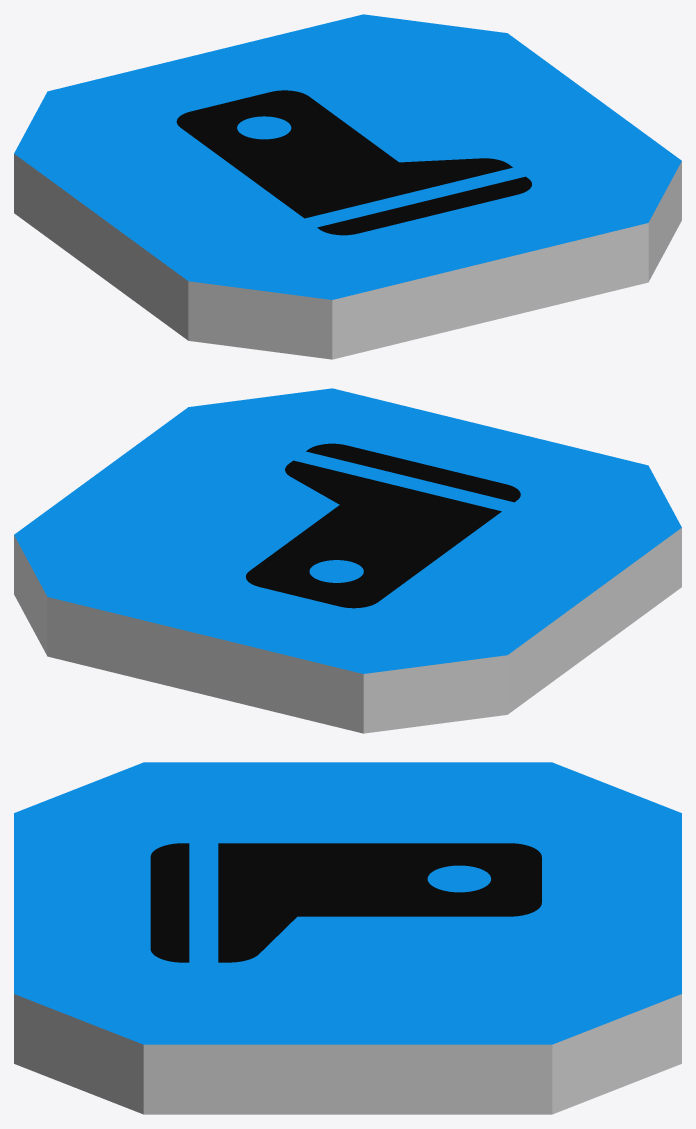
File: prizeBoot.glb
3 views of the same model, one above another, from view 1: azimuth 30°, elevation 25°; view 2: azimuth 150°, elevation 25°; view 3: azimuth 270°, elevation 25° (orthographic). The views are drawn at different scales.
Visible parts, largest first — view 1: prize, icon; view 2: prize, icon; view 3: prize, icon.
Part boxes in pixels (x1,y1,x2,y2): prize: (14,14,681,359); icon: (176,90,531,235); prize: (14,388,681,733); icon: (246,443,520,608); prize: (14,762,681,1114); icon: (150,843,541,962).
Size of the model in its own units: 4.29 by 0.5224 by 4.29.
